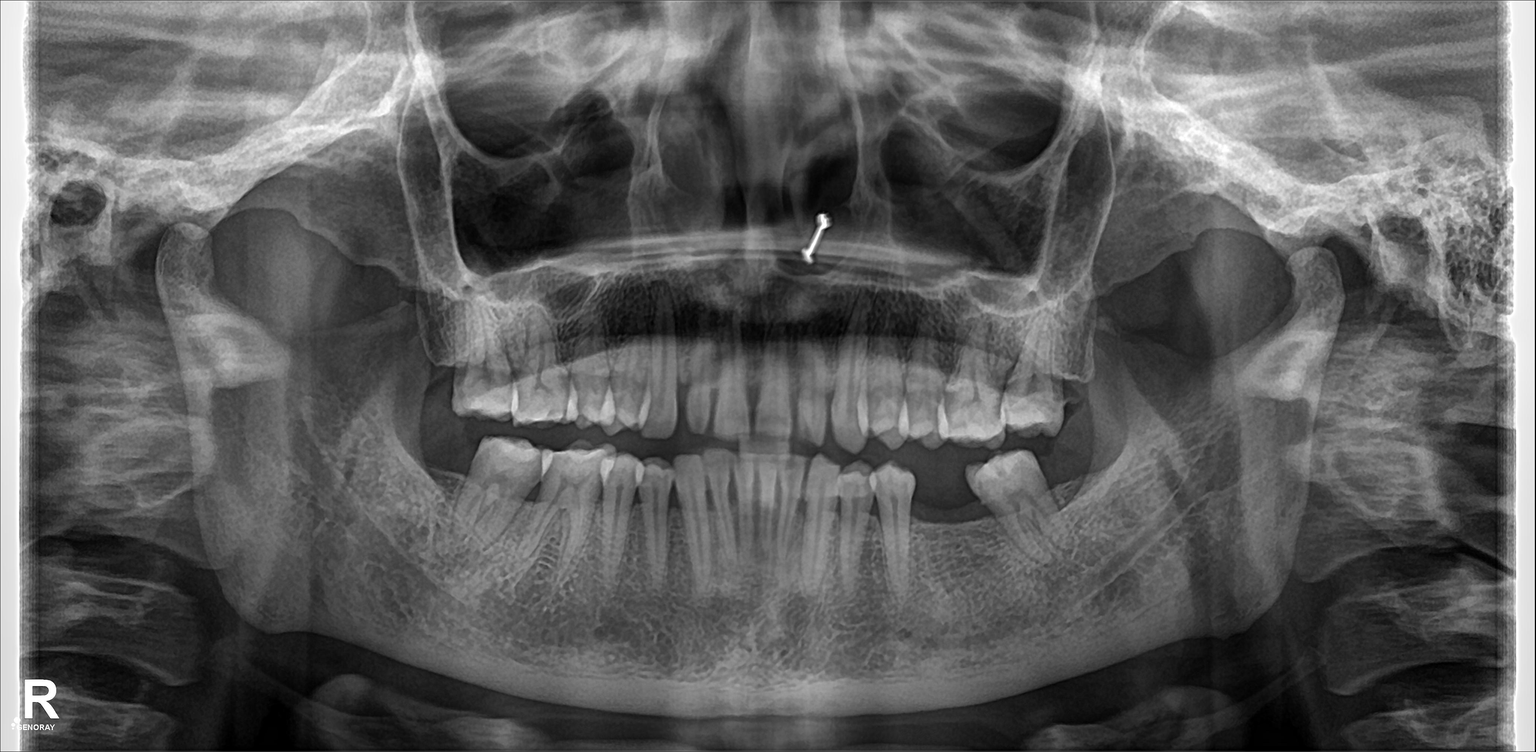Missing Tooth: (922, 478, 973, 576), (1058, 449, 1111, 538), (406, 311, 459, 399), (417, 436, 463, 529), (1063, 333, 1113, 410)
